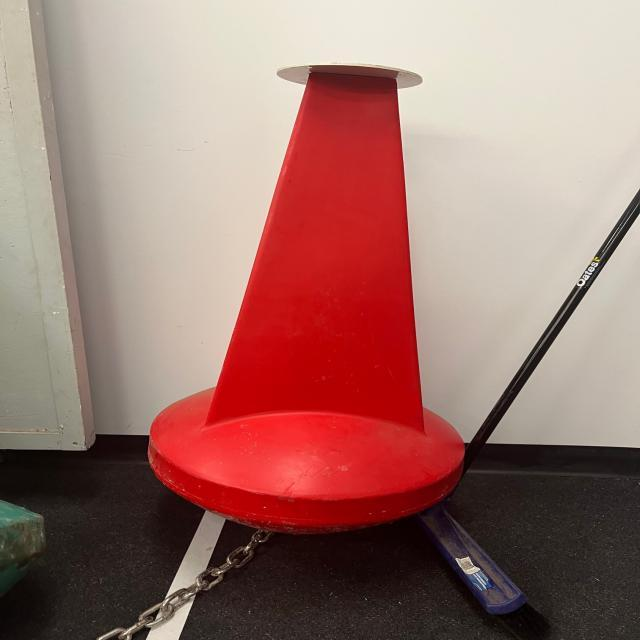Red_Buoy: (289, 65, 419, 432)
